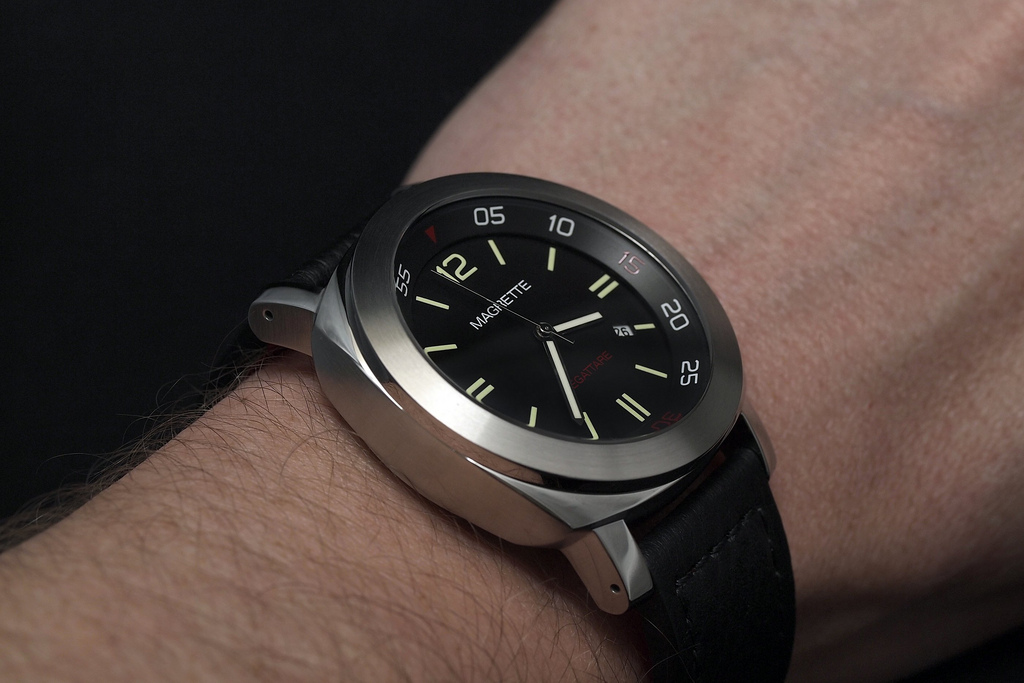clock: (406, 228, 684, 455)
